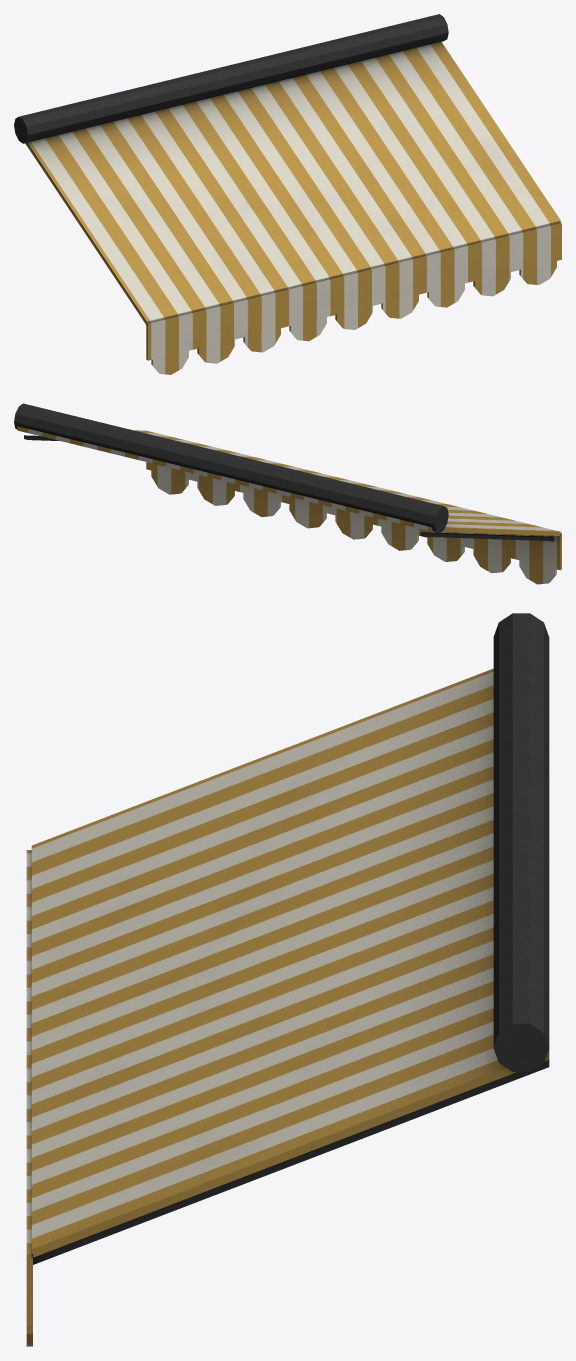
Rendered from awning_24_ochre.glb.
3 renders of one model, top to bottom at view 1: azimuth 30°, elevation 25°; view 2: azimuth 150°, elevation 25°; view 3: azimuth 270°, elevation 25°, orthographic. The views are drawn at different scales.
Visible parts, largest first — view 1: awning_24_ochre; view 2: awning_24_ochre; view 3: awning_24_ochre.
Part boxes in pixels (box(x1,y1,x2,y2)): awning_24_ochre: box(14, 14, 561, 374); awning_24_ochre: box(14, 403, 561, 584); awning_24_ochre: box(26, 613, 549, 1346).
Size of the model in its own units: 2.44 by 0.9566 by 1.31.
Materials: 1 (1 with a texture image).
